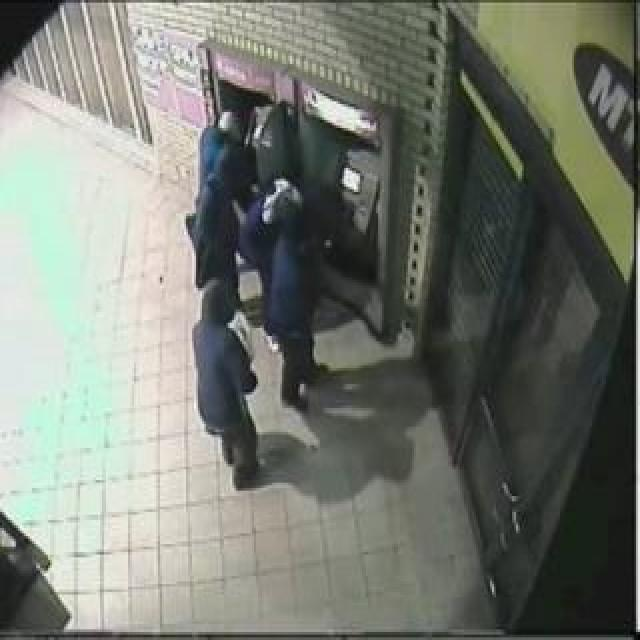thief: (185, 103, 308, 323)
